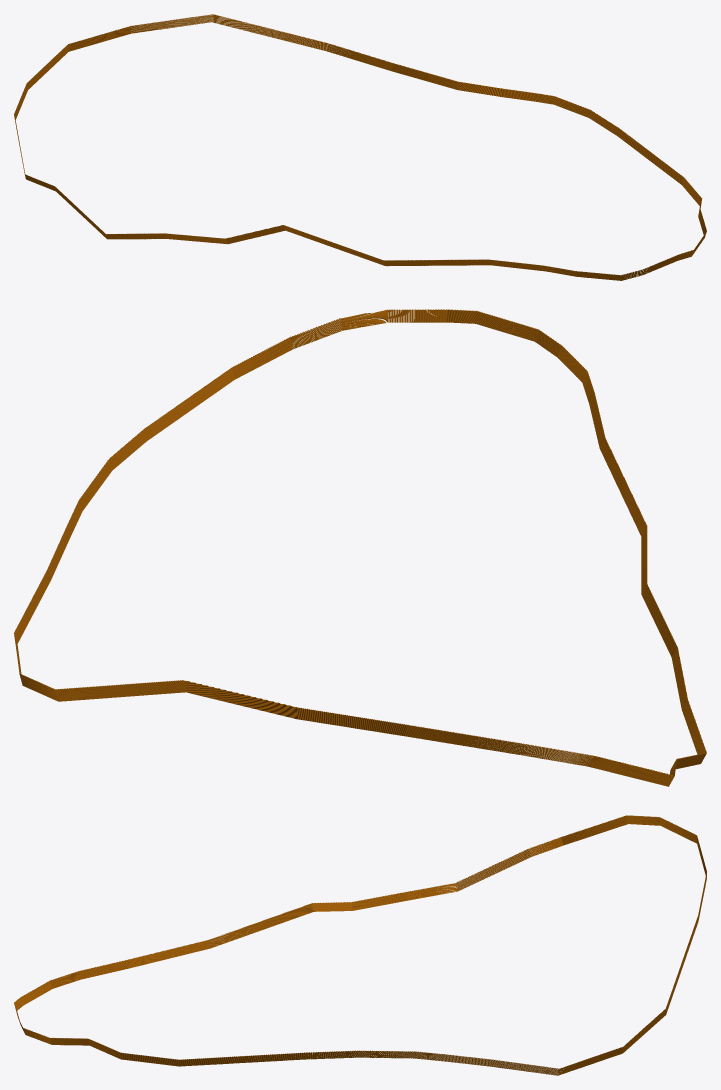
Rendered from Palissade_ext.fbx.
3 views of the same model, one above another, from view 1: azimuth 30°, elevation 25°; view 2: azimuth 150°, elevation 25°; view 3: azimuth 270°, elevation 25° (orthographic). The views are drawn at different scales.
Parts seen in each view (by area): view 1: Palissade_Ext; view 2: Palissade_Ext; view 3: Palissade_Ext.
Boxes of the visible parts, bbox=[...] form: Palissade_Ext: bbox=[14, 14, 706, 280]; Palissade_Ext: bbox=[14, 309, 706, 786]; Palissade_Ext: bbox=[14, 815, 706, 1075].
Bounding box in the file's own units: 18642 × 3451 × 22810.
